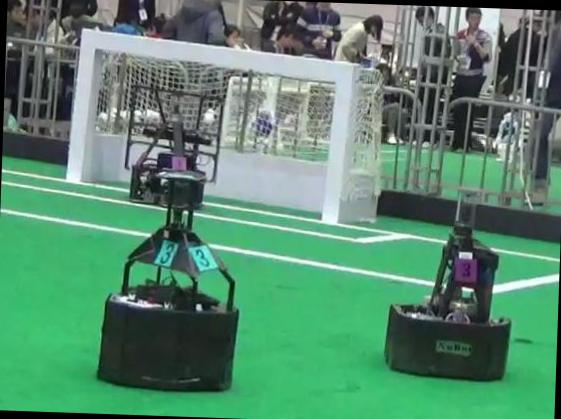goal: (321, 61, 355, 222), (66, 28, 95, 180)
robot: (97, 171, 239, 389), (384, 187, 510, 378), (124, 84, 223, 209)
